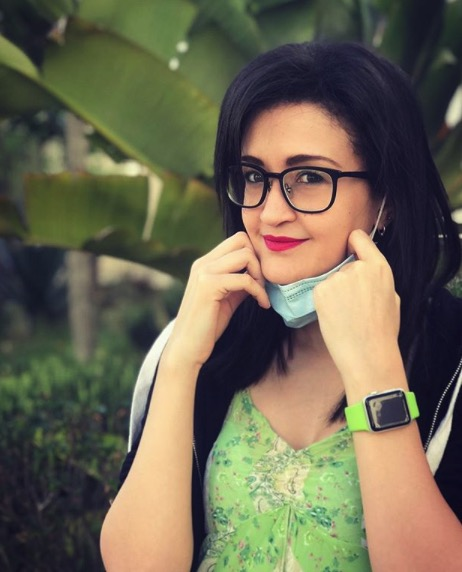mask_weared_incorrect: (243, 146, 359, 324)
